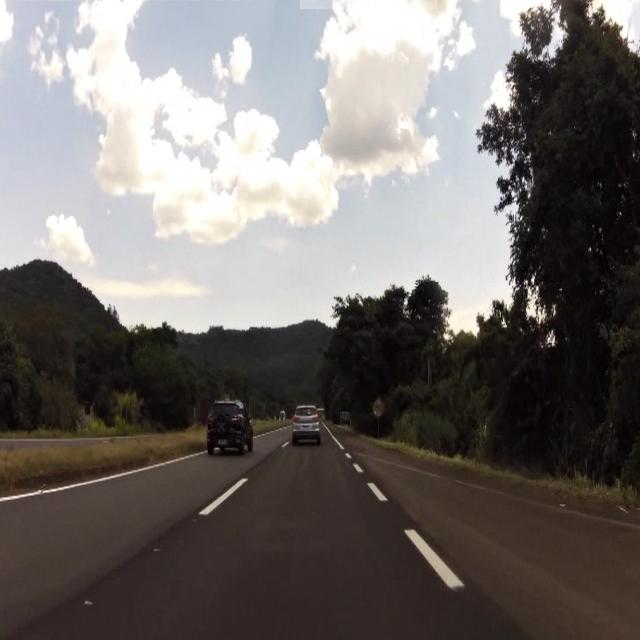R-19: (372, 399, 385, 417)
